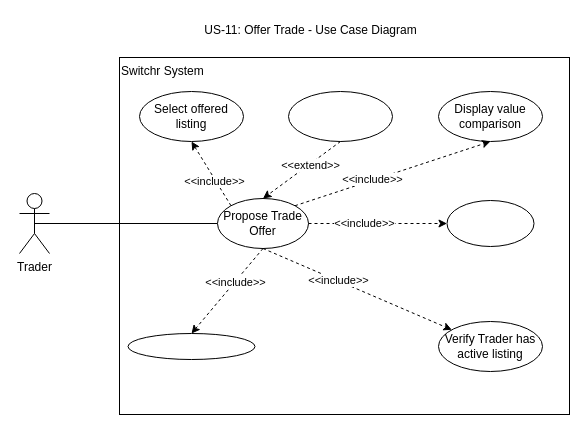
Image size: 587x432. Some labels were removed from this diagram. The shapes that lost their labels are listed below. From the top down, each one's centre as x and y in pixels, then its label:
the point at 340,116: Add price adjustment
the point at 490,223: Send trade offer to Seller
the point at 191,346: Authenticate User
